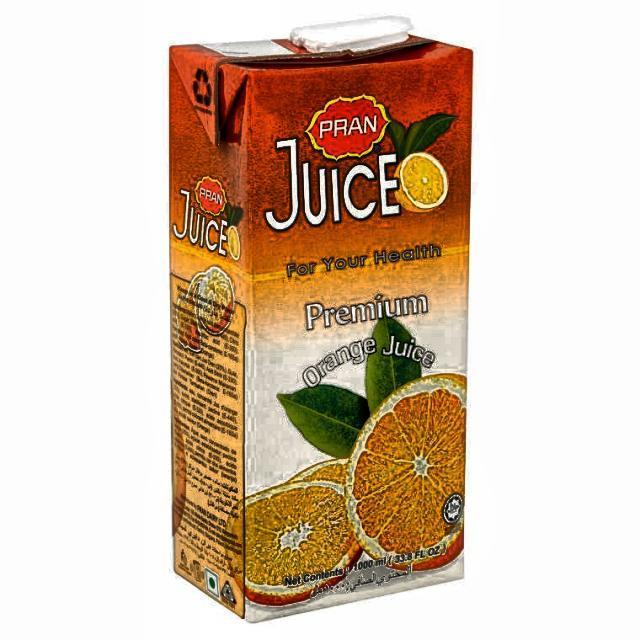cardboard: (168, 31, 472, 622)
